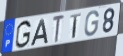8: (102, 8, 116, 35)
A: (30, 18, 49, 47)
G: (15, 20, 32, 50), (83, 9, 100, 38)
T: (52, 14, 65, 44), (70, 12, 82, 40)
